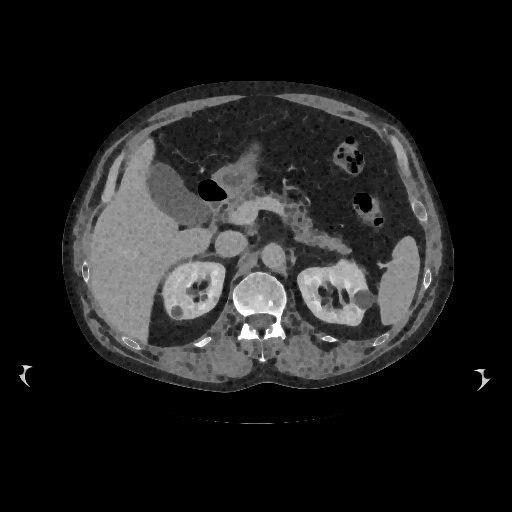Lesion: (353, 287, 376, 311)
